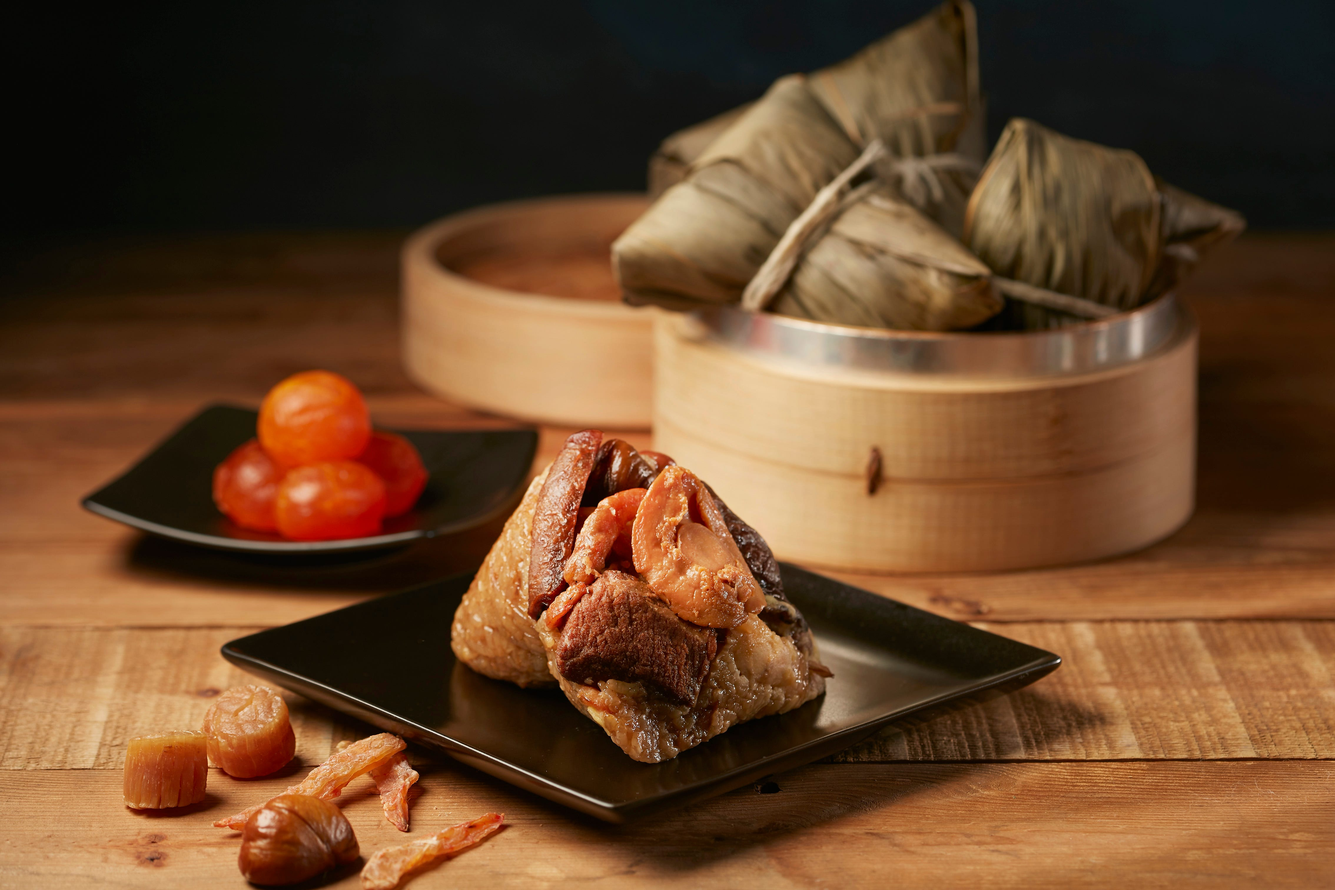zongzi: (451, 429, 833, 763), (613, 79, 1003, 331), (808, 0, 983, 234), (964, 118, 1163, 309), (578, 514, 584, 519)
